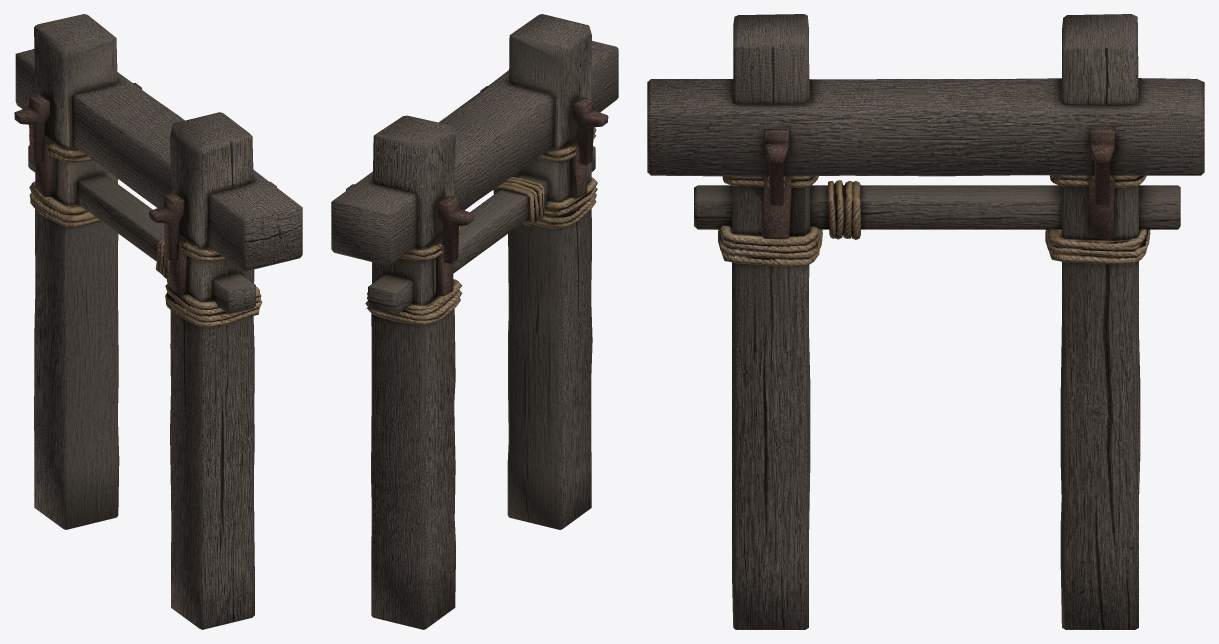
The model's file is tripo_convert_888222b6-d7bf-49cf-909d-34caa3367546.fbx.
The picture shows the model from 3 angles, left to right: view 1: azimuth 30°, elevation 25°; view 2: azimuth 150°, elevation 25°; view 3: azimuth 270°, elevation 25°; orthographic projection. The views are drawn at different scales.
Visible parts, largest first — view 1: tripo_node_888222b6; view 2: tripo_node_888222b6; view 3: tripo_node_888222b6.
Boxes of the visible parts, left/top/right/bottom form: tripo_node_888222b6: left=14, top=14, right=302, bottom=629; tripo_node_888222b6: left=331, top=14, right=618, bottom=629; tripo_node_888222b6: left=647, top=14, right=1204, bottom=629.
Size of the model in its own units: 0.2637 by 0.998 by 0.8613.
Materials: 1 (1 with a texture image).
